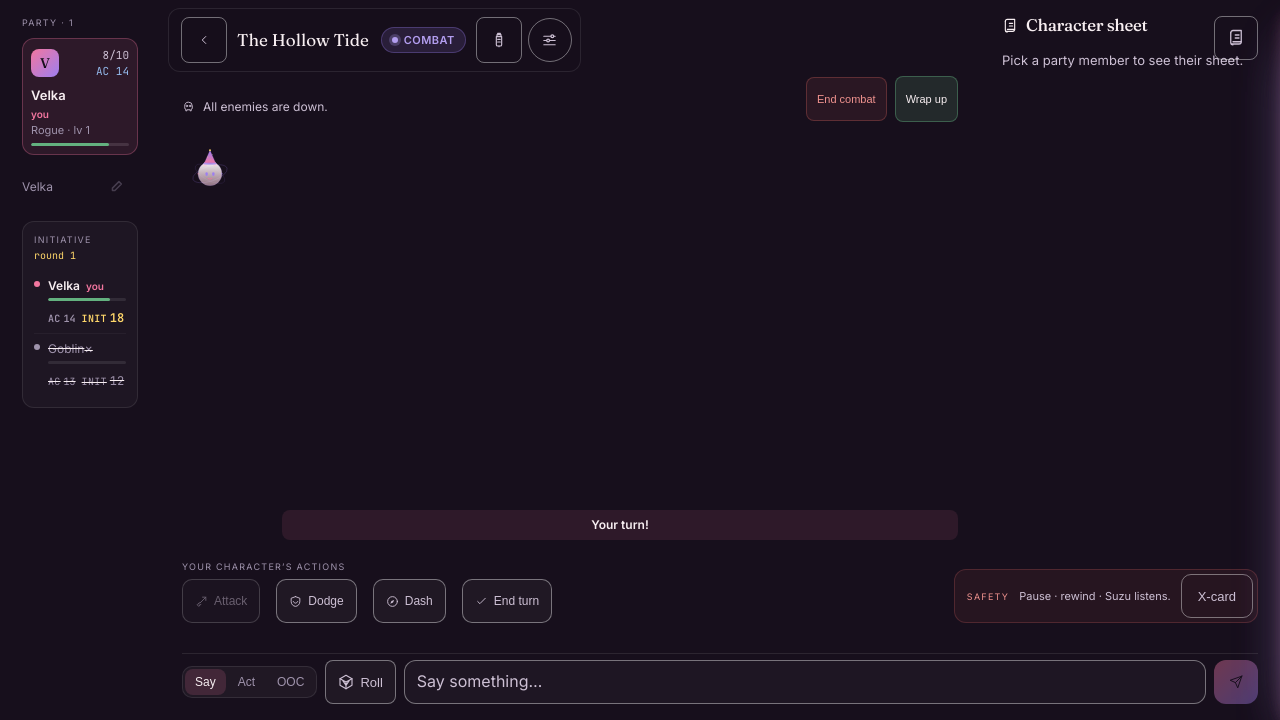
Scenario: B3-1 — outcome chooser › Victory option is enabled when a monster is down
Expected: the text "The Hollow Tide" is shown, left=237, top=27, right=369, bottom=53
Click the button "End combat" at (846, 99), box left=806, top=77, right=887, bottom=121
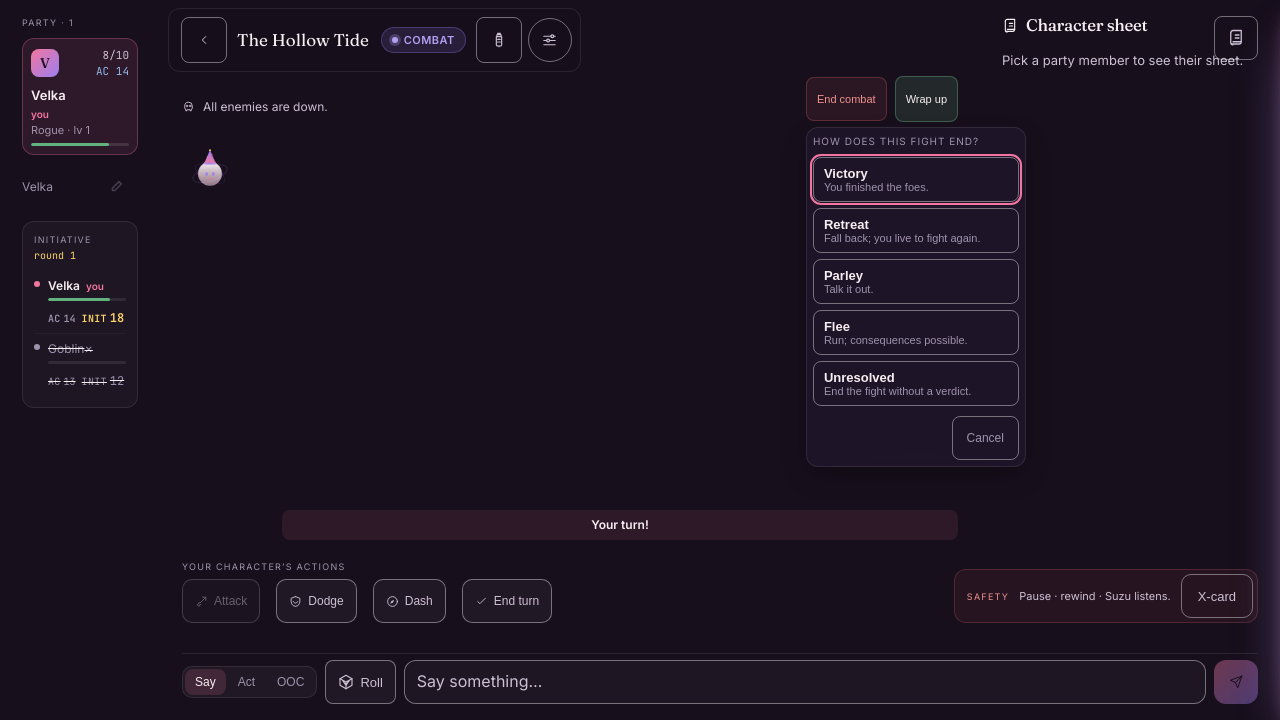
Now the button "Victory You finished the foes." is enabled, box left=813, top=157, right=1019, bottom=202
